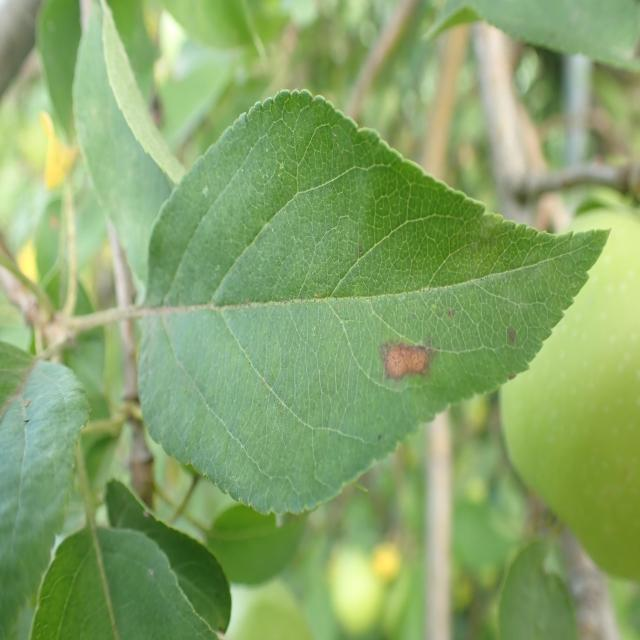frog-eye-leaf-spot: (134, 89, 614, 517)
